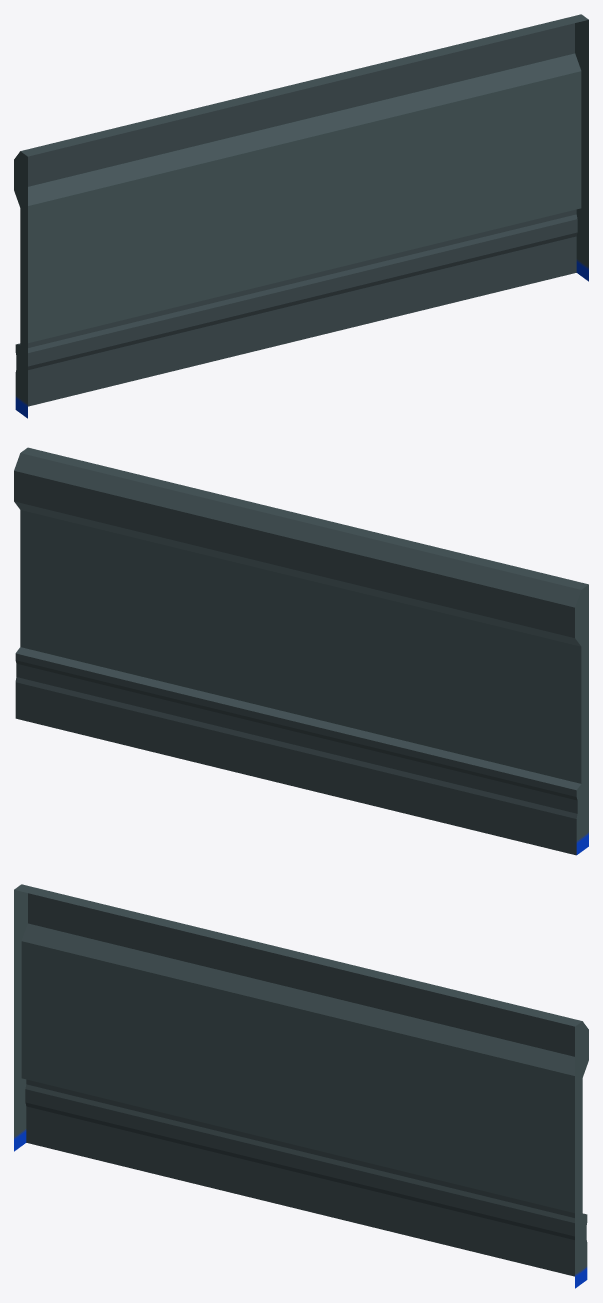
The model's file is SM_wall_front_simple.fbx.
The picture shows the model from 3 angles, top to bottom: view 1: azimuth 30°, elevation 25°; view 2: azimuth 150°, elevation 25°; view 3: azimuth 330°, elevation 25°; orthographic projection.
Visible parts, largest first — view 1: SM_wall_front_simple; view 2: SM_wall_front_simple; view 3: SM_wall_front_simple.
Part boxes in pixels (x1,y1,x2,y2): SM_wall_front_simple: (14,14,588,418); SM_wall_front_simple: (14,447,588,855); SM_wall_front_simple: (14,884,588,1288).
Size of the model in its own units: 300 by 134 by 12.82.
Materials: 1 (1 with a texture image).
